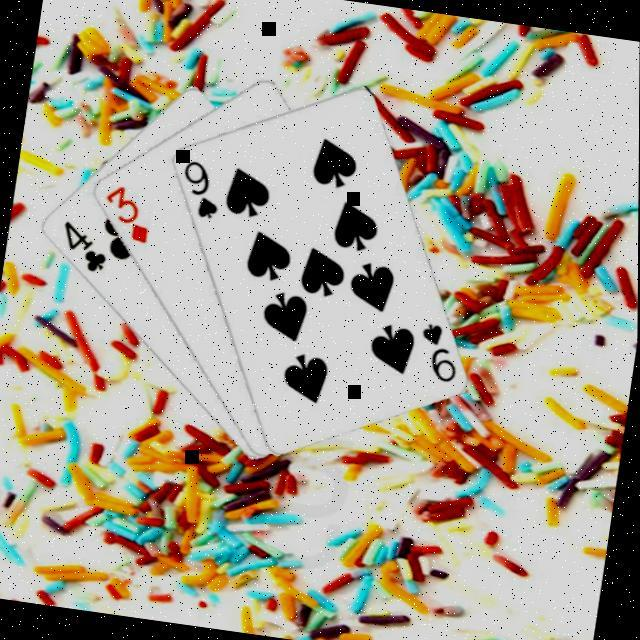3D: (93, 182, 155, 248)
4C: (52, 218, 112, 278)
9S: (172, 156, 226, 224), (410, 321, 464, 388)
